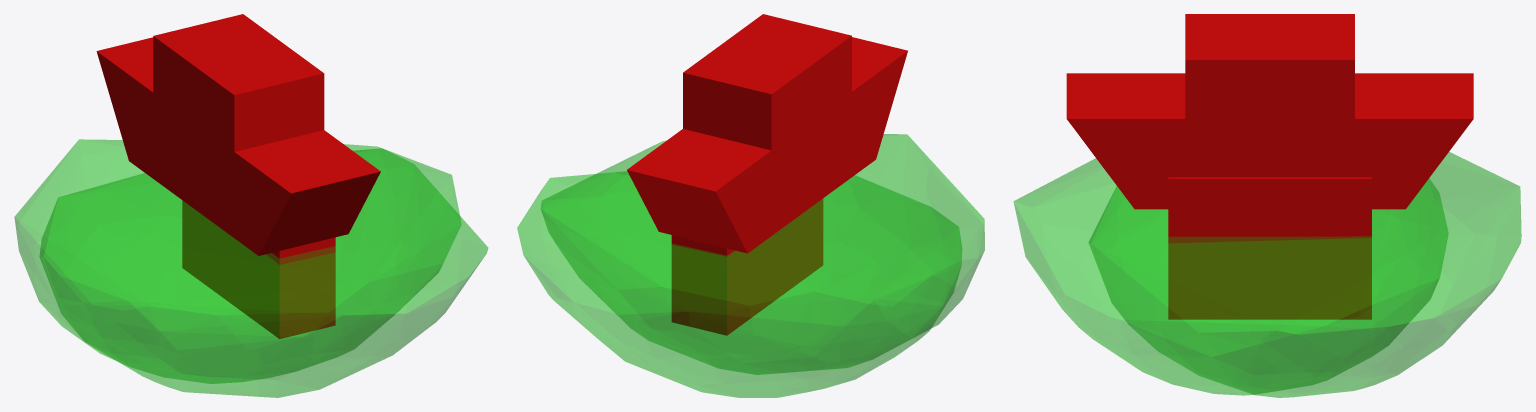
The model's file is talos_trunk_lower_visual_large.dae.
3 views of the same model, side by side, from view 1: azimuth 30°, elevation 25°; view 2: azimuth 150°, elevation 25°; view 3: azimuth 270°, elevation 25° (orthographic). The views are drawn at different scales.
Visible parts, largest first — view 1: Talos_Rleg_Rom, Talos_Lleg_Rom, Talos_Trunk_Lower_Large; view 2: Talos_Lleg_Rom, Talos_Rleg_Rom, Talos_Trunk_Lower_Large; view 3: Talos_Trunk_Lower_Large, Talos_Lleg_Rom, Talos_Rleg_Rom.
Part boxes in pixels (bbox=[...]): Talos_Rleg_Rom: bbox=[39, 148, 488, 397]; Talos_Lleg_Rom: bbox=[14, 139, 461, 383]; Talos_Trunk_Lower_Large: bbox=[96, 14, 380, 338]; Talos_Lleg_Rom: bbox=[517, 171, 961, 397]; Talos_Rleg_Rom: bbox=[540, 134, 984, 374]; Talos_Trunk_Lower_Large: bbox=[627, 14, 907, 335]; Talos_Trunk_Lower_Large: bbox=[1066, 14, 1473, 319]; Talos_Lleg_Rom: bbox=[1088, 152, 1521, 397]; Talos_Rleg_Rom: bbox=[1013, 158, 1448, 395].
Size of the model in its own units: 1.44 by 1.5 by 1.07.
